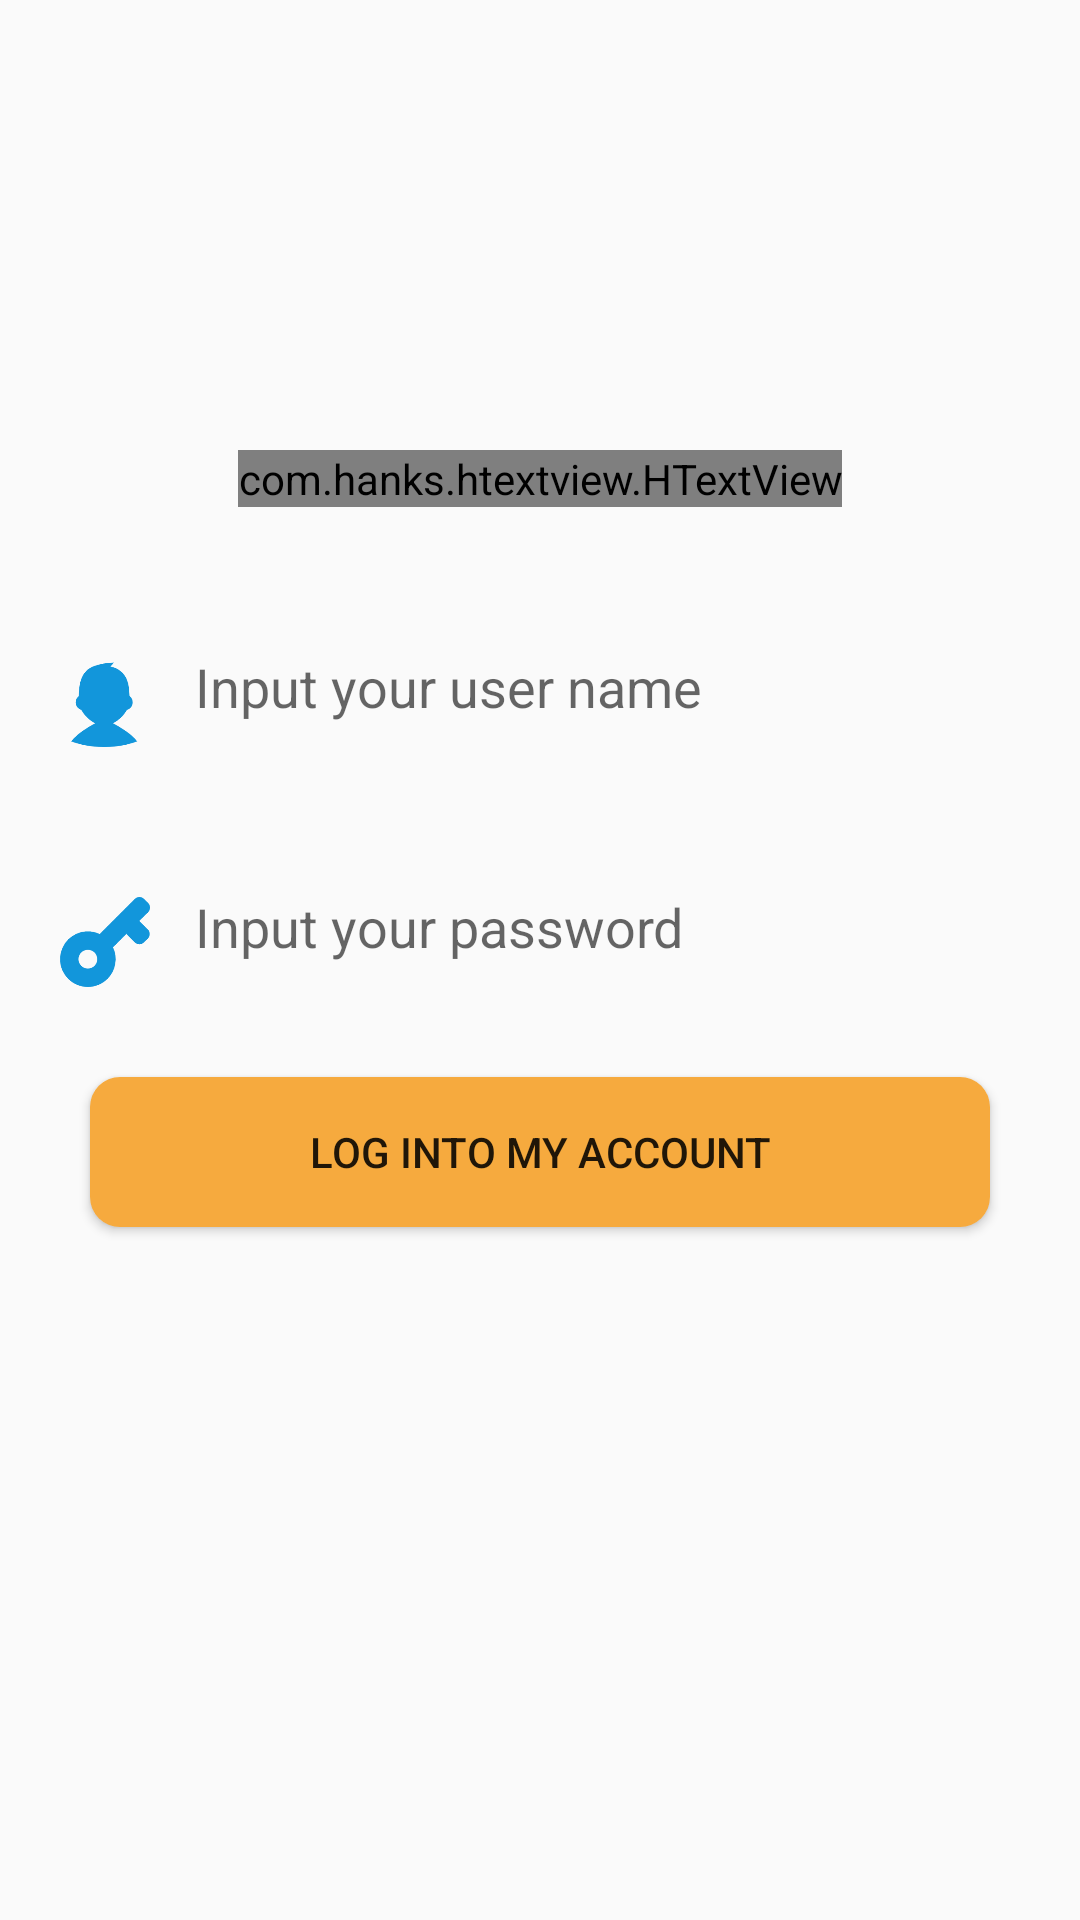

Icon bounding boxes for this 1080x1920 phone screenshot, format (x1, y1, x2, y2):
nickname: (71, 662, 137, 747)
